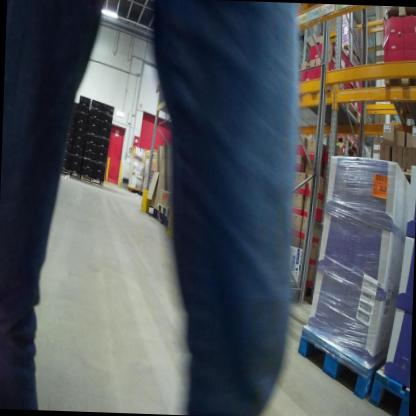pallet: (295, 309, 394, 408), (302, 87, 364, 129), (368, 354, 410, 416), (384, 67, 416, 131), (326, 133, 360, 156), (339, 43, 367, 70), (78, 167, 106, 188), (381, 7, 416, 22), (57, 161, 83, 181), (157, 200, 175, 219)
